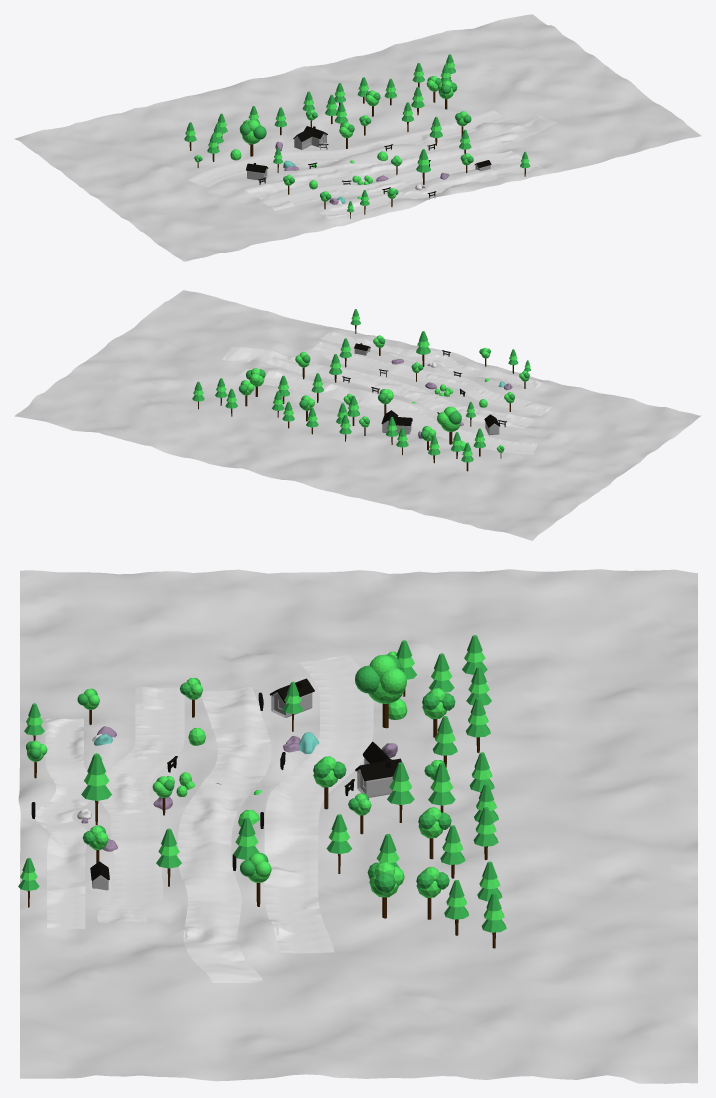
The model's file is SM_MobileHood_Environment.fbx.
The picture shows the model from 3 angles, top to bottom: view 1: azimuth 30°, elevation 25°; view 2: azimuth 150°, elevation 25°; view 3: azimuth 270°, elevation 25°; orthographic projection. The views are drawn at different scales.
Visible parts, largest first — view 1: Floor, SM_Road.004, SM_Road.006, SM_Road.005, SM_Road.007, SM_Road.002, SM_Road.003, SM_Road.001, SM_Road.000, Cube.010, Cylinder.005; view 2: Floor, SM_Road.005, SM_Road.004, SM_Road.007, SM_Road.006, SM_Road.002, SM_Road.003, SM_Road.000, SM_Road.001, Cylinder.005, Cube.010; view 3: Floor, SM_Road.007, SM_Road.004, SM_Road.005, SM_Road.006, SM_Road.003, SM_Road.002, SM_Road.001, SM_Road.000, Cylinder.005, Cube.010, Cylinder.006 (+8 smaller).
Part boxes in pixels (x1,y1,x2,y2): Floor: (14,14,701,261); SM_Road.004: (245,160,412,199); SM_Road.006: (188,149,357,187); SM_Road.005: (400,116,557,168); SM_Road.007: (348,110,508,156); SM_Road.002: (263,180,402,210); SM_Road.003: (388,150,522,187); SM_Road.001: (426,161,541,193); SM_Road.000: (320,189,438,219); Cube.010: (293,126,327,149); Cylinder.005: (239,119,266,156); Floor: (14,290,701,540); SM_Road.005: (222,347,393,389); SM_Road.004: (380,380,534,428); SM_Road.007: (234,369,402,412); SM_Road.006: (392,401,537,454); SM_Road.002: (432,372,552,415); SM_Road.003: (310,342,439,381); SM_Road.000: (432,355,542,389); SM_Road.001: (320,331,436,363); Cylinder.005: (437,406,461,444); Cube.010: (381,410,412,434); Floor: (18,569,697,1083); SM_Road.007: (264,798,334,953); SM_Road.004: (178,687,271,836); SM_Road.005: (177,833,264,982); SM_Road.006: (268,655,373,805); SM_Road.003: (97,802,163,923); SM_Road.002: (100,686,184,806); SM_Road.001: (39,821,87,929); SM_Road.000: (35,718,90,824); Cylinder.005: (355,654,406,728); Cube.010: (355,741,401,797); Cylinder.006: (367,862,404,918).
Size of the model in its own units: 18291 by 1625 by 10384.
